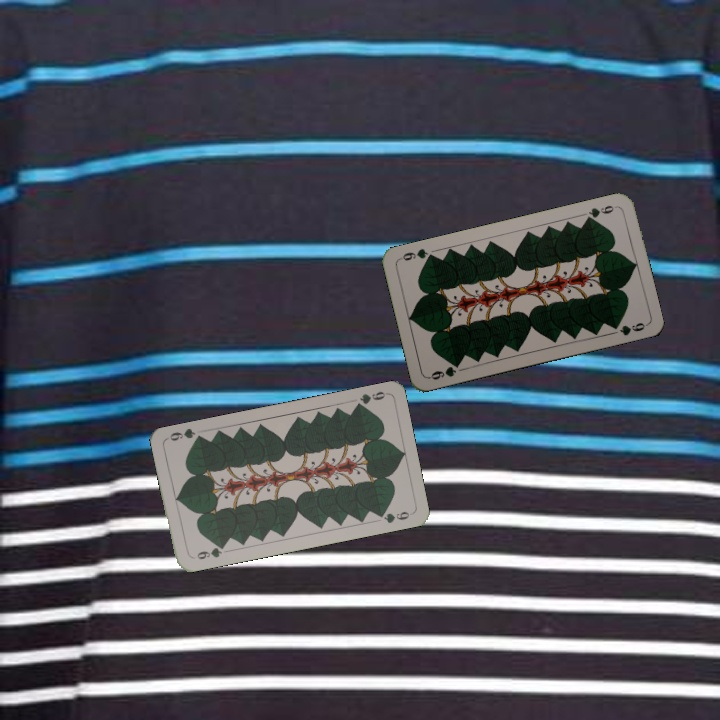G9: (350, 387, 389, 411), (425, 358, 463, 382), (581, 201, 619, 224), (188, 541, 228, 562)
